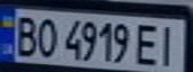1: (96, 19, 115, 62)
4: (60, 16, 81, 61)
9: (112, 19, 136, 64), (78, 17, 100, 62)
B: (9, 12, 39, 57)
E: (133, 20, 163, 66)
I: (154, 21, 184, 69)
O: (33, 15, 60, 58)
